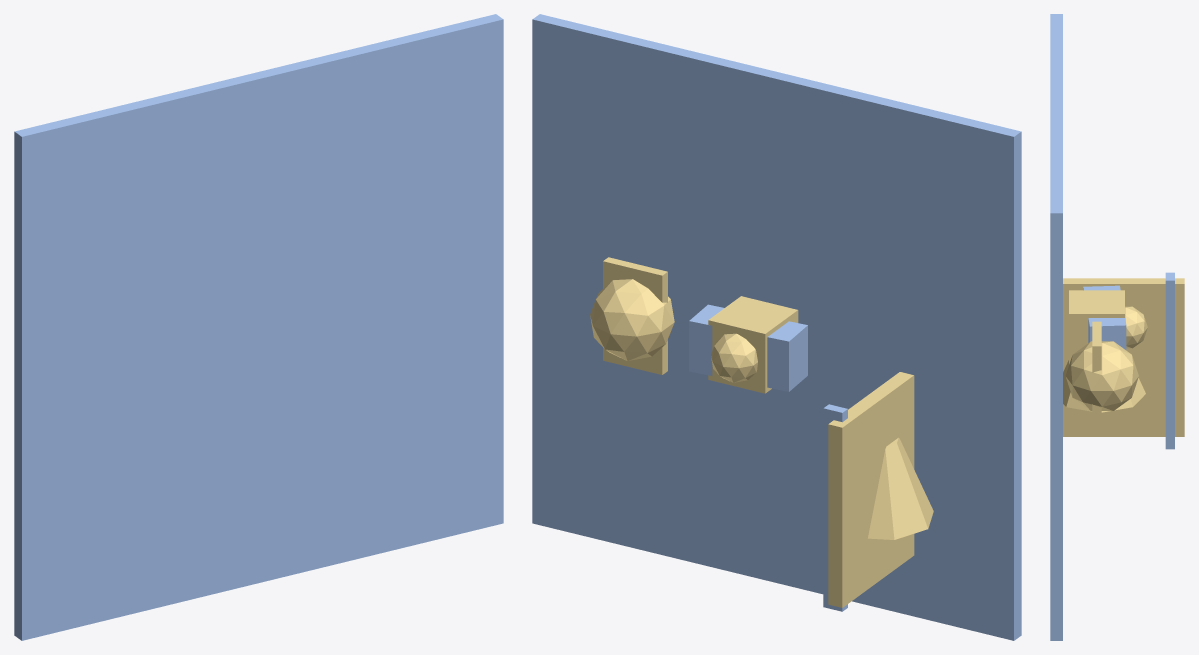
The model's file is snake-reactor-kit.glb.
The picture shows the model from 3 angles, left to right: view 1: azimuth 30°, elevation 25°; view 2: azimuth 150°, elevation 25°; view 3: azimuth 270°, elevation 25°; orthographic projection. The views are drawn at different scales.
Visible parts, largest first — view 1: ENVIRONMENT_GROUND; view 2: ENVIRONMENT_GROUND, PROFILE_ENVIRONMENT_DETAIL, OBSTACLE, ENVIRONMENT_LANDMARK, PLAYER_BODY, PROFILE_PLAYER_DETAIL, PROFILE_OBSTACLE_DETAIL, PLAYER_CORE, PROFILE_ENVIRONMENT_TRIM; view 3: PROFILE_ENVIRONMENT_DETAIL, ENVIRONMENT_GROUND, OBSTACLE, PROFILE_PLAYER_DETAIL, PROFILE_ENVIRONMENT_TRIM, PLAYER_BODY, PROFILE_OBSTACLE_DETAIL, PLAYER_CORE, ENVIRONMENT_LANDMARK.
Part boxes in pixels (x1,y1,x2,y2): ENVIRONMENT_GROUND: (14, 14, 503, 640); ENVIRONMENT_GROUND: (532, 14, 1021, 640); PROFILE_ENVIRONMENT_DETAIL: (828, 372, 914, 607); OBSTACLE: (590, 279, 674, 360); ENVIRONMENT_LANDMARK: (868, 437, 933, 539); PLAYER_BODY: (689, 304, 807, 391); PROFILE_PLAYER_DETAIL: (708, 296, 798, 393); PROFILE_OBSTACLE_DETAIL: (603, 257, 667, 374); PLAYER_CORE: (711, 333, 757, 382); PROFILE_ENVIRONMENT_TRIM: (823, 404, 847, 611); PROFILE_ENVIRONMENT_DETAIL: (1063, 278, 1184, 436); ENVIRONMENT_GROUND: (1050, 14, 1062, 640); OBSTACLE: (1065, 341, 1138, 410); PROFILE_PLAYER_DETAIL: (1069, 290, 1124, 364); PROFILE_ENVIRONMENT_TRIM: (1165, 272, 1174, 449); PLAYER_BODY: (1083, 285, 1126, 349); PROFILE_OBSTACLE_DETAIL: (1092, 321, 1101, 430); PLAYER_CORE: (1125, 306, 1147, 348); ENVIRONMENT_LANDMARK: (1063, 360, 1145, 412).
Size of what is drawn, in the model's own units: 9 by 9 by 2.56.
